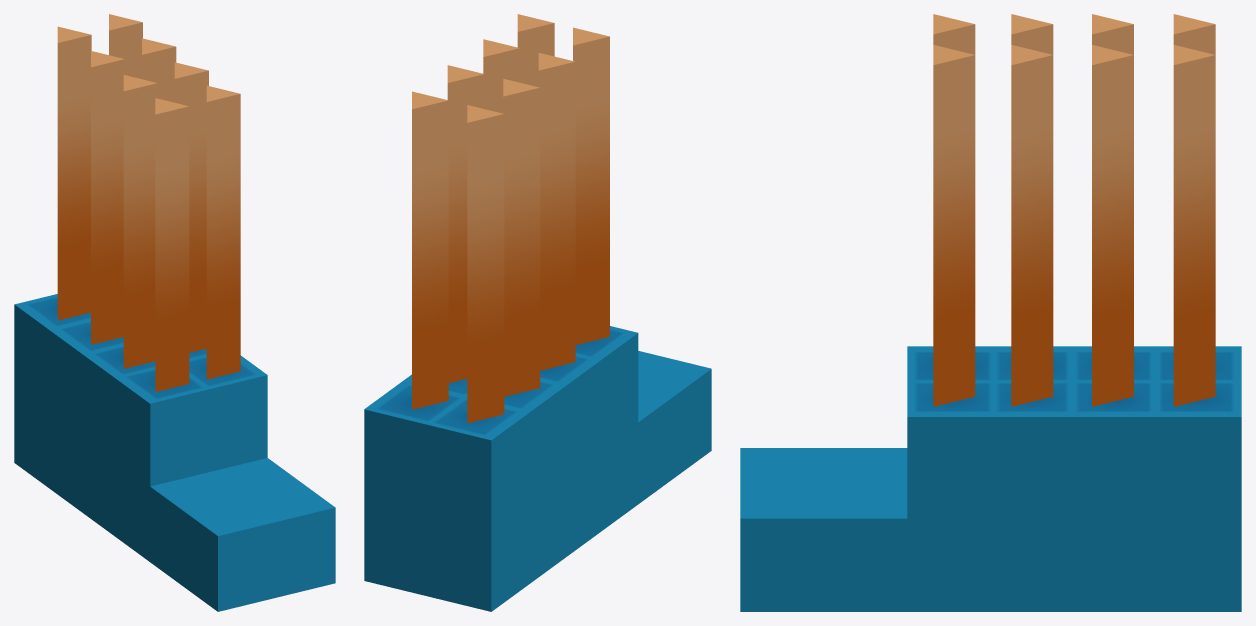
Rendered from PowerConnectors6.fbx.
3 renders of one model, left to right at view 1: azimuth 30°, elevation 25°; view 2: azimuth 150°, elevation 25°; view 3: azimuth 270°, elevation 25°, orthographic. The views are drawn at different scales.
Parts seen in each view (by area): view 1: PowerConnectors6; view 2: PowerConnectors6; view 3: PowerConnectors6.
Part boxes in pixels (x1,y1,x2,y2): PowerConnectors6: (14,14,335,611); PowerConnectors6: (364,14,711,611); PowerConnectors6: (740,14,1241,611).
Bounding box in the file's own units: 0.5 × 1.77 × 1.5.
